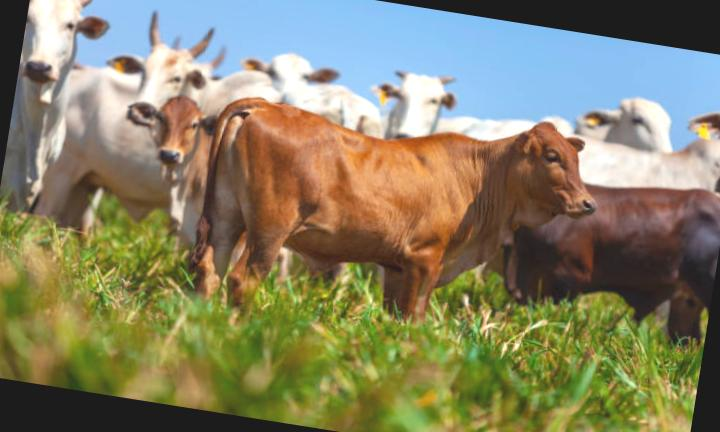Brahman: (191, 97, 595, 317)
